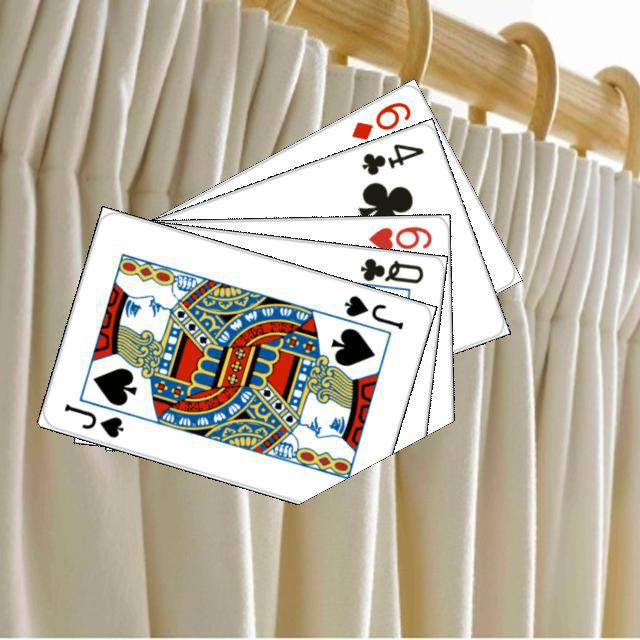4c: (356, 138, 426, 177)
6d: (346, 96, 413, 142)
6h: (364, 221, 434, 252)
Js: (59, 398, 126, 440), (339, 290, 405, 331)
Qc: (347, 253, 426, 296)
